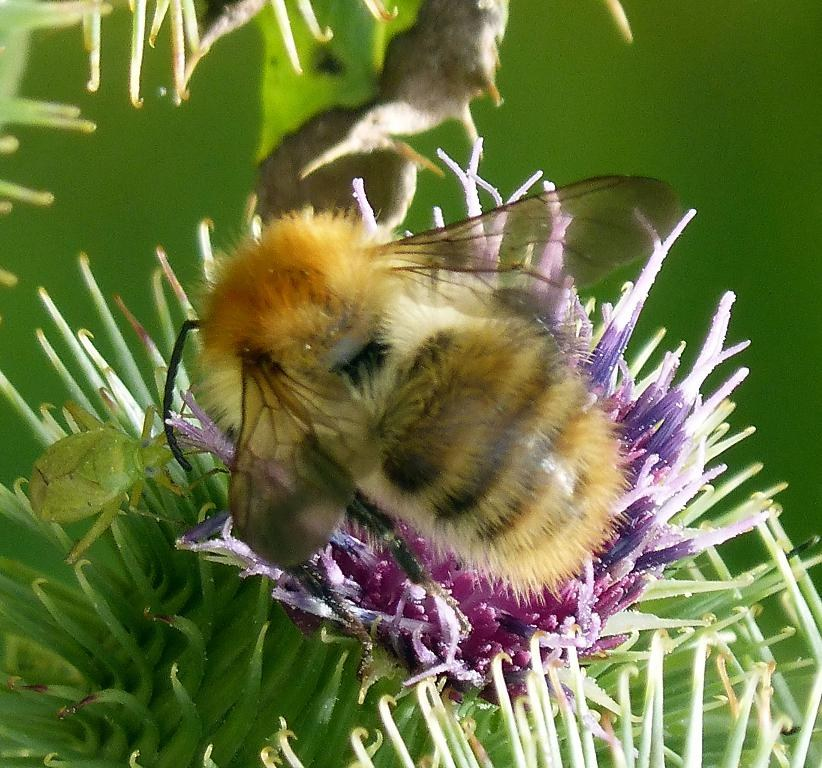bee: (158, 167, 673, 597)
